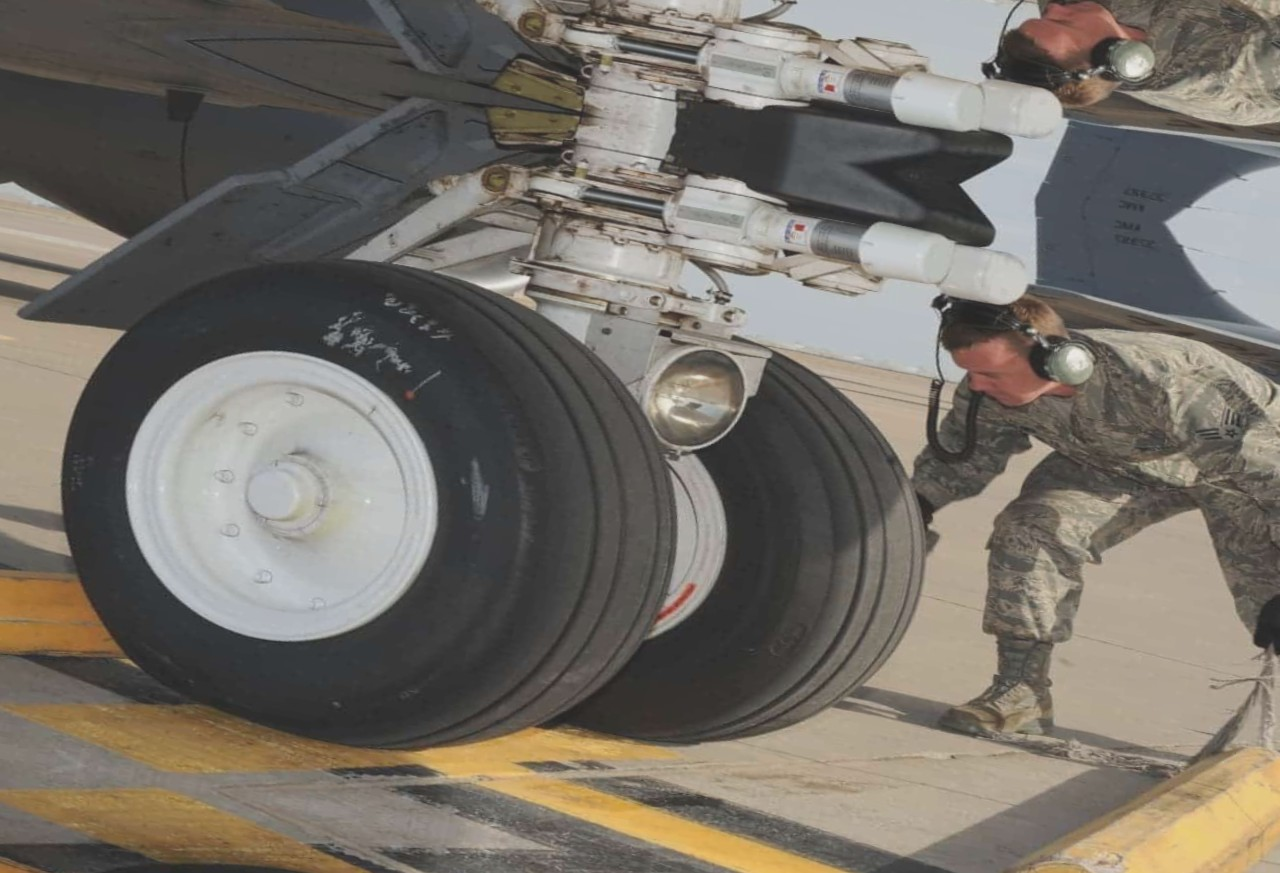chock: (978, 694, 1280, 873)
wheel: (10, 212, 731, 799), (531, 312, 963, 789)
